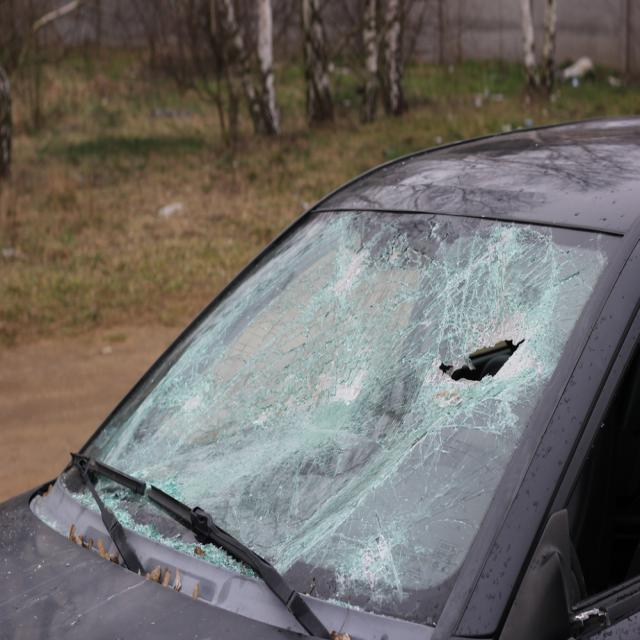glass shatter: (74, 210, 624, 627)
